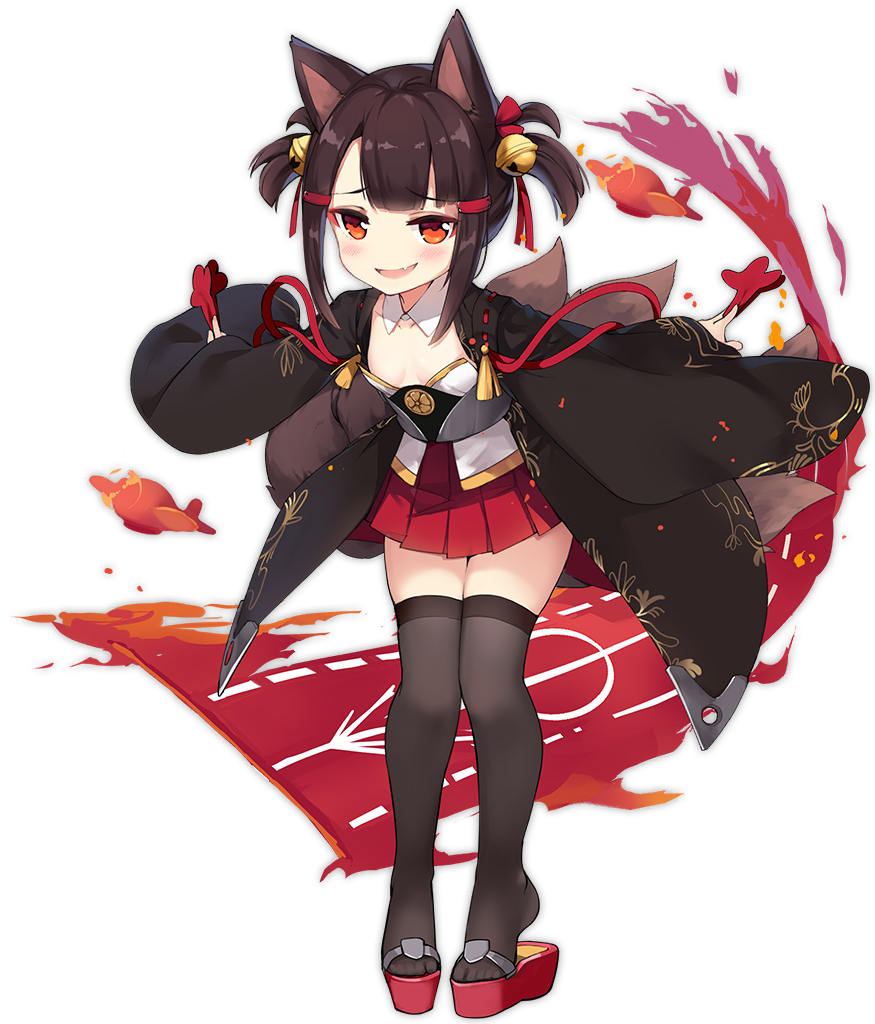person: (10, 4, 873, 1023)
